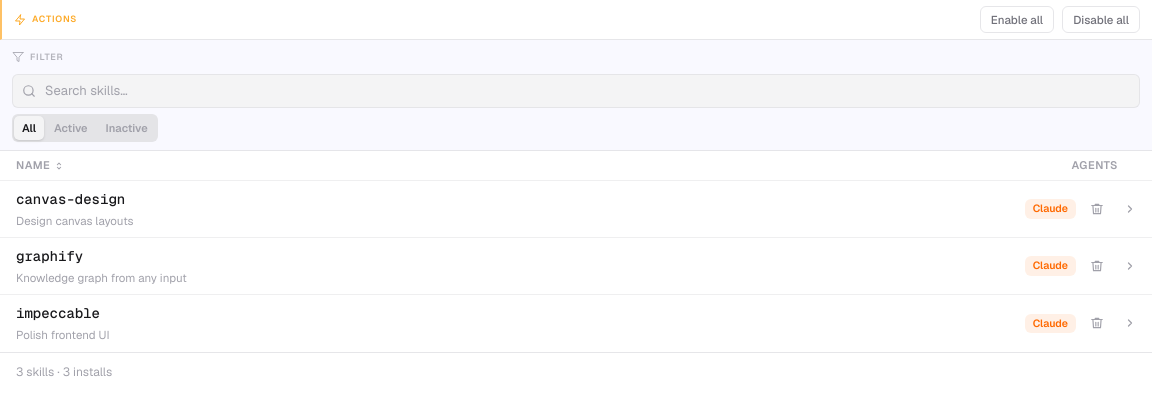
Test case: AllSkillsView — search › search filters skills by name
In the field with placeholder "Search skills…": (576, 91) x1=12 y1=74 x2=1140 y2=108, type "graph"
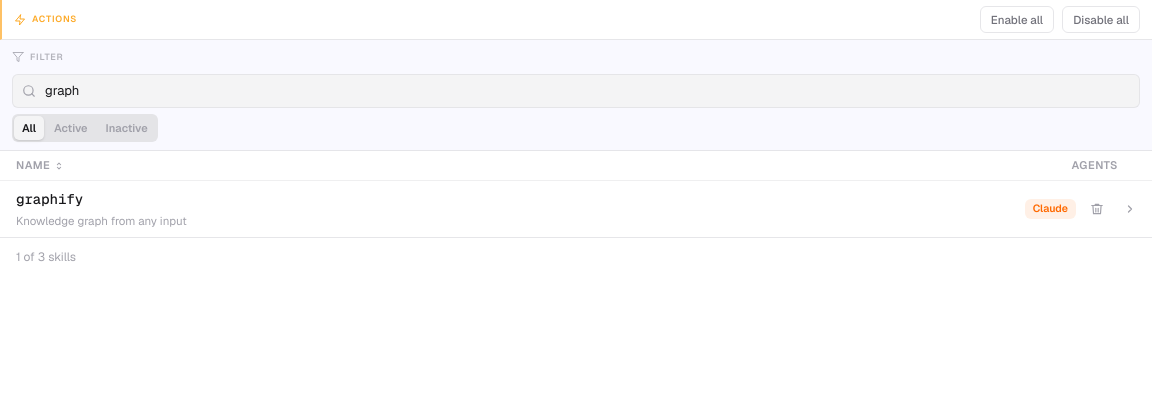
Expected: the text "graphify" is shown, x1=16 y1=190 x2=83 y2=208
Now the button "impeccable" is gone
Now the button "canvas-design" is gone
